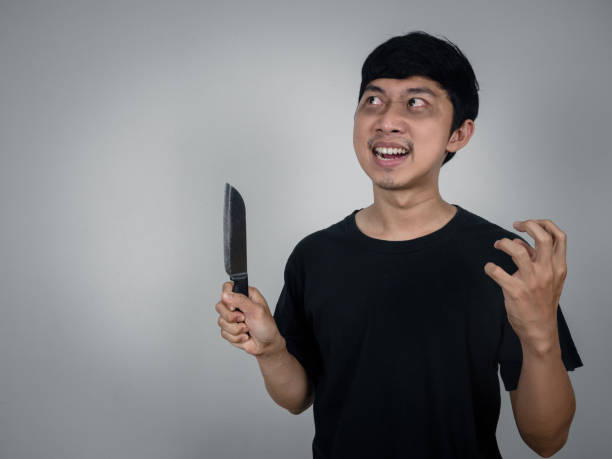knife: (221, 179, 250, 297)
